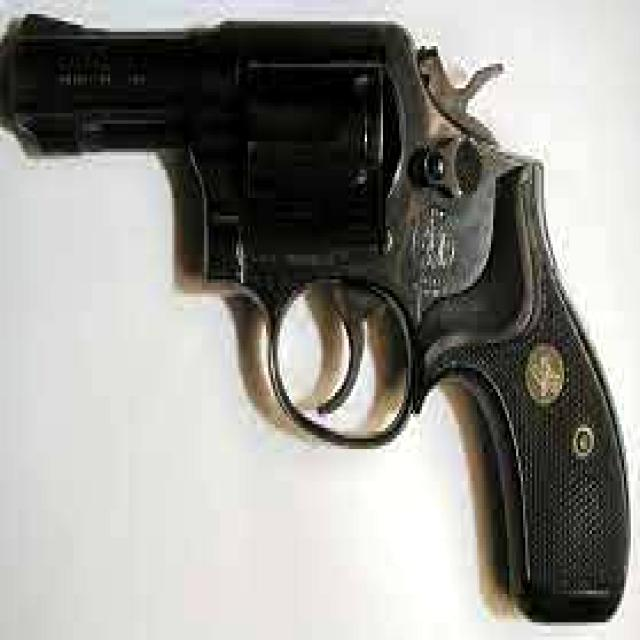semi automatic: (1, 4, 632, 630)
